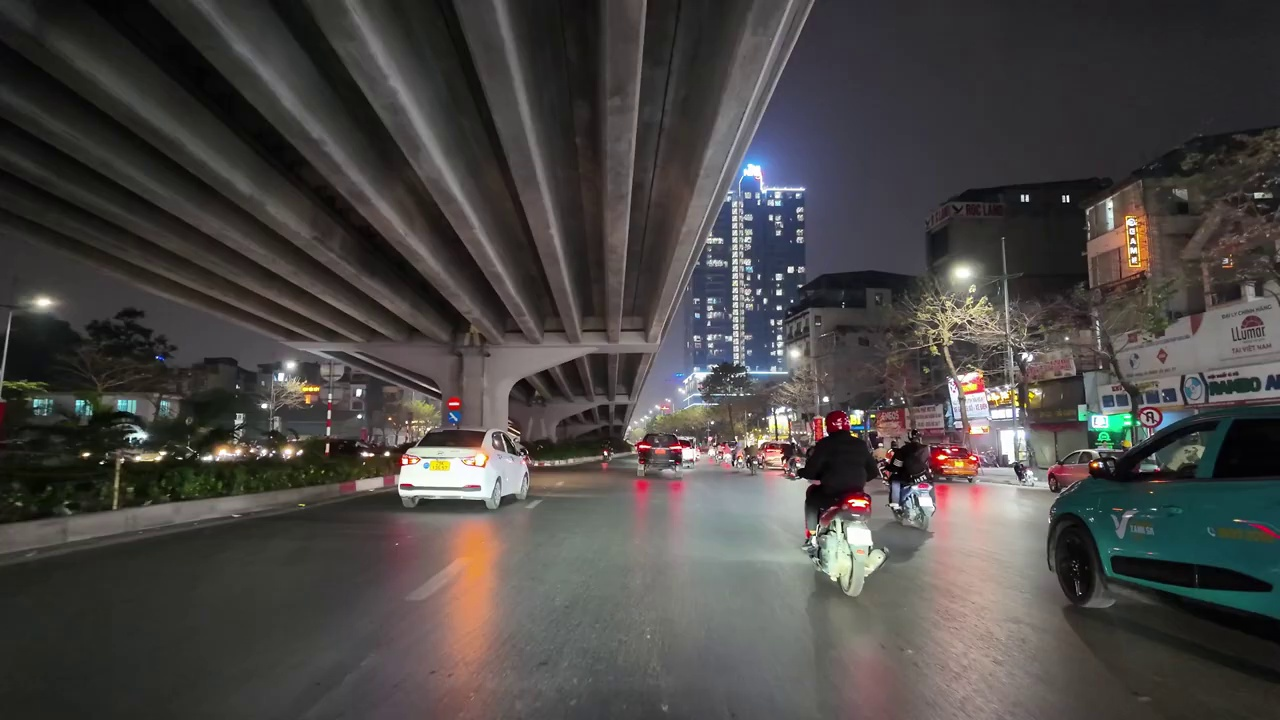acesa: (947, 262, 976, 287), (31, 293, 58, 314)
